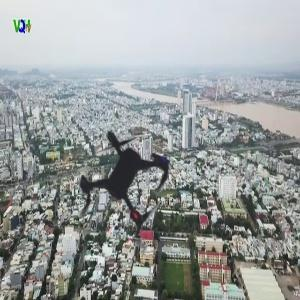drone: (11, 69, 231, 289)
